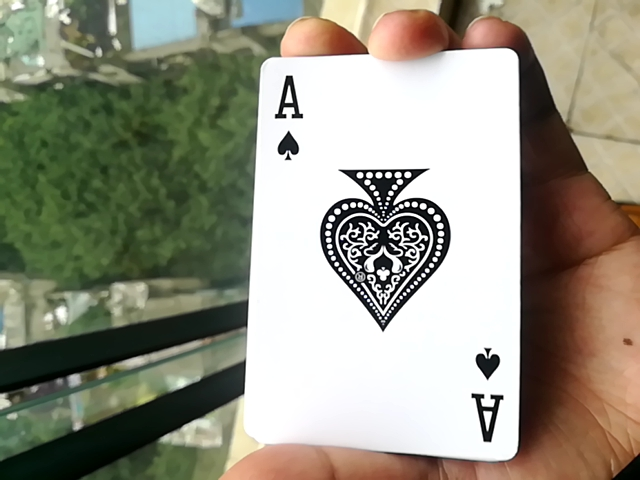ht a: (228, 60, 524, 469)
